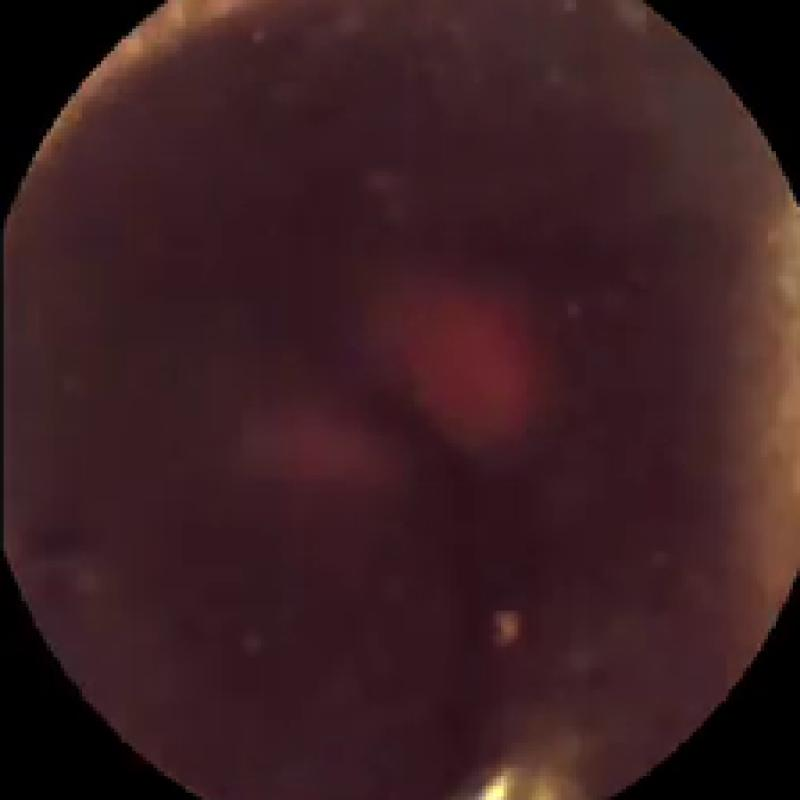bleeding: (393, 275, 550, 457), (247, 405, 389, 485)
